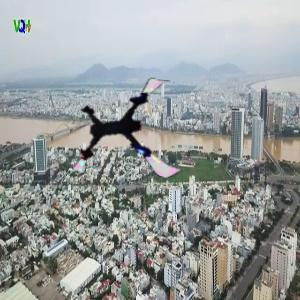drone: (73, 70, 188, 185)
